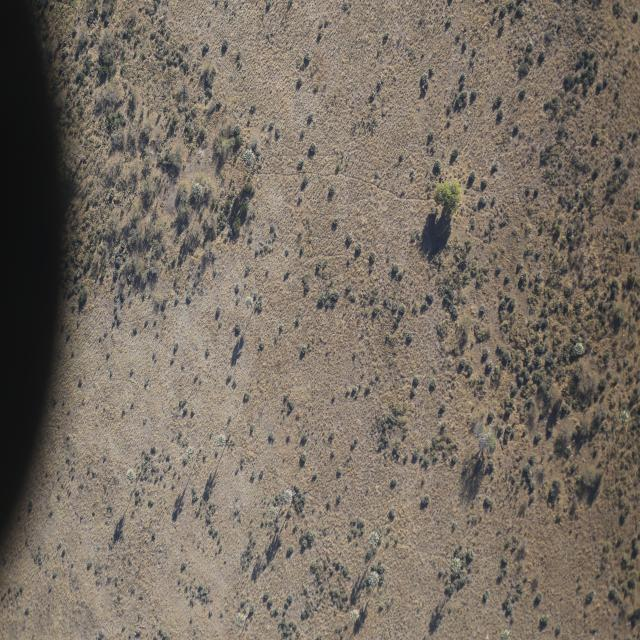elephant: (422, 83, 427, 89), (439, 257, 443, 264), (371, 90, 376, 95), (378, 78, 381, 85), (440, 173, 443, 179), (424, 89, 427, 93), (382, 80, 384, 84)
